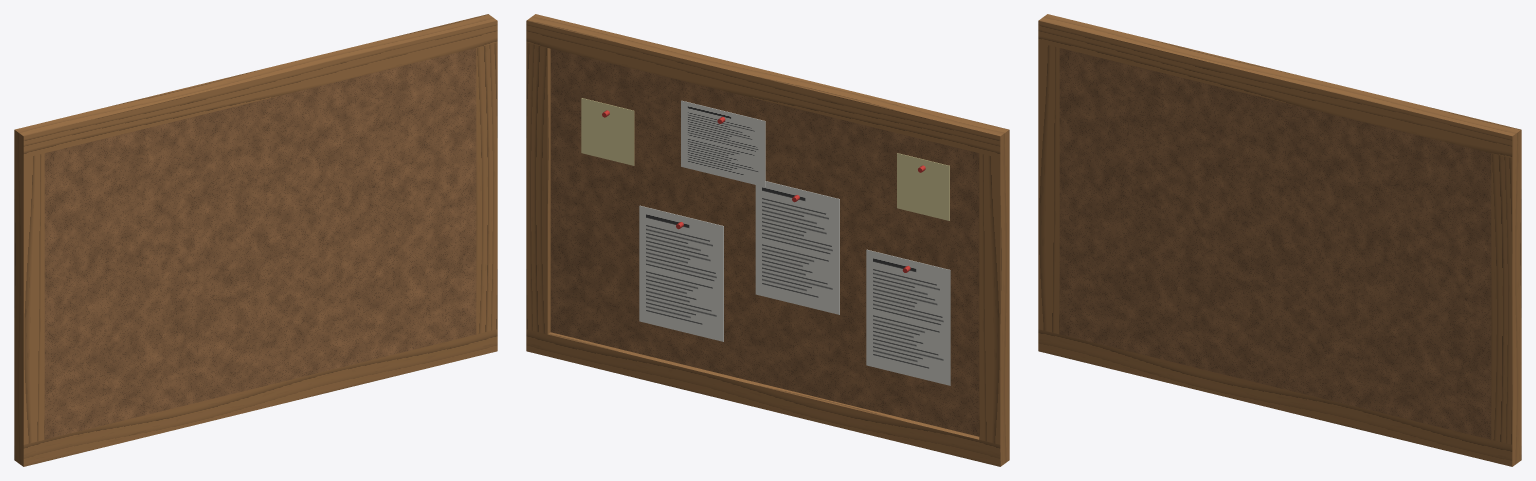
Rendered from X14_DRESS_Bulletin_Board_090.glb.
3 renders of one model, left to right at view 1: azimuth 30°, elevation 25°; view 2: azimuth 150°, elevation 25°; view 3: azimuth 330°, elevation 25°, orthographic.
Visible parts, largest first — view 1: X14_DRESS_Bulletin_Board_090_LOD0; view 2: X14_DRESS_Bulletin_Board_090_LOD0; view 3: X14_DRESS_Bulletin_Board_090_LOD0.
Part boxes in pixels (bbox=[...]): X14_DRESS_Bulletin_Board_090_LOD0: bbox=[14, 14, 497, 466]; X14_DRESS_Bulletin_Board_090_LOD0: bbox=[526, 14, 1009, 466]; X14_DRESS_Bulletin_Board_090_LOD0: bbox=[1038, 14, 1521, 466].
Size of what is drawn, in the model's own units: 0.9 by 0.6 by 0.035.
5 materials, 3 textured.
